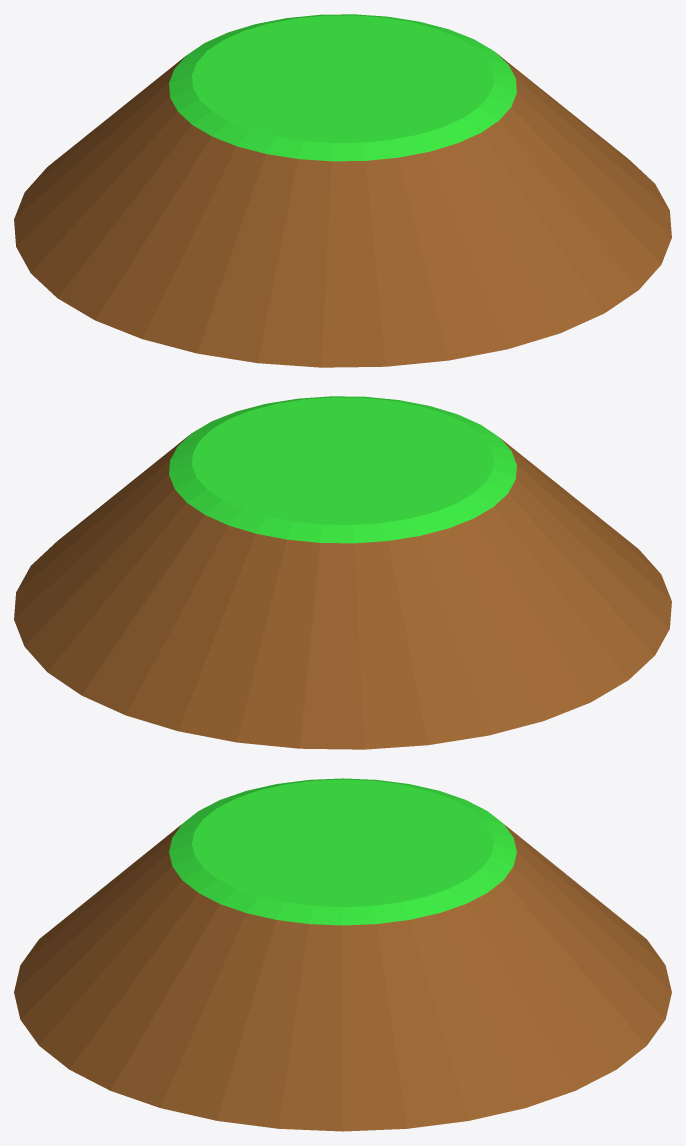
Rendered from Hill.fbx.
The picture shows the model from 3 angles, top to bottom: view 1: azimuth 30°, elevation 25°; view 2: azimuth 150°, elevation 25°; view 3: azimuth 270°, elevation 25°; orthographic projection.
Parts seen in each view (by area): view 1: Cylinder; view 2: Cylinder; view 3: Cylinder.
Part boxes in pixels (box(x1,y1,x2,y2)): Cylinder: box(14, 14, 671, 367); Cylinder: box(14, 396, 671, 749); Cylinder: box(14, 778, 671, 1131).
Size of the model in its own units: 400 by 100 by 400.
